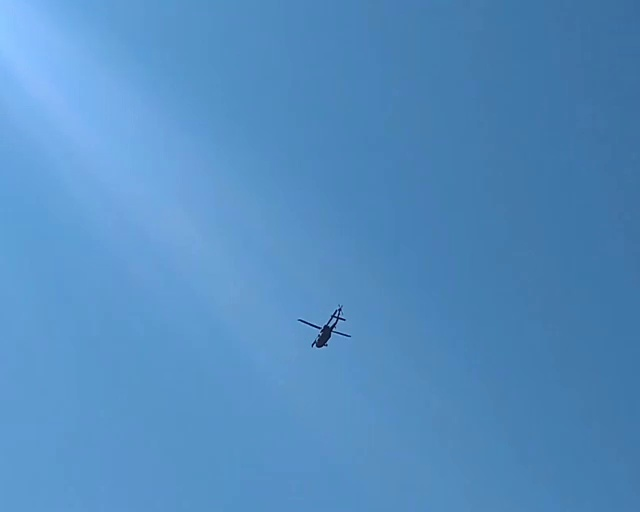HELICOPTER: (296, 303, 350, 349)
